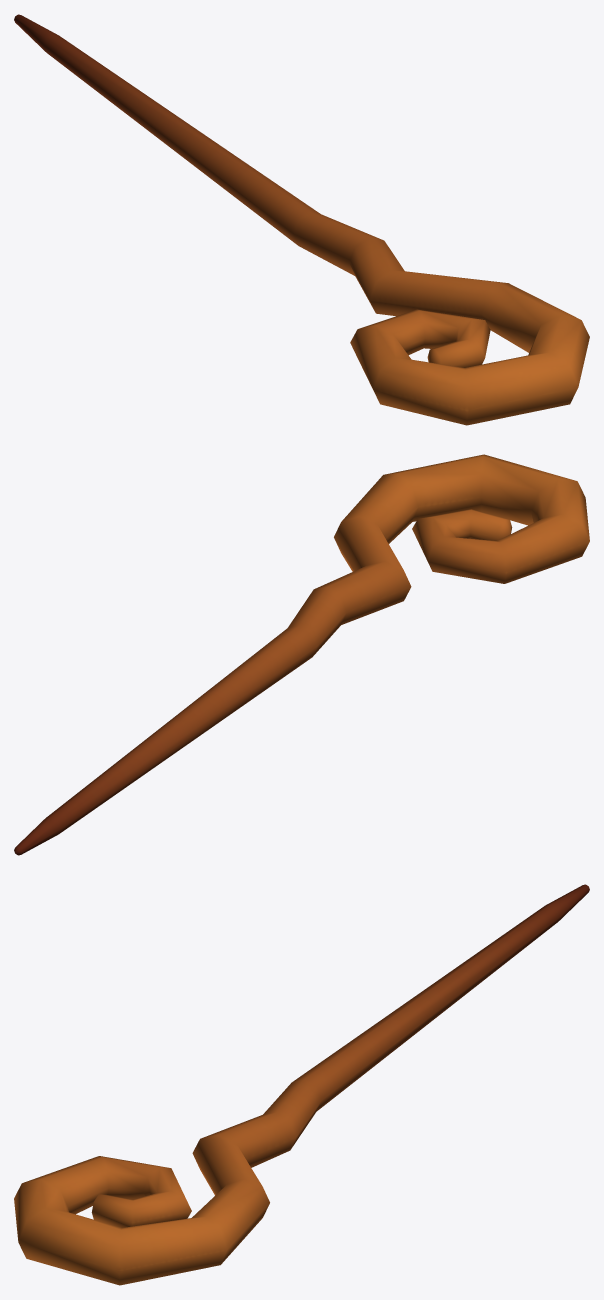
The model's file is wizard_wand.FBX.
3 views of the same model, one above another, from view 1: azimuth 30°, elevation 25°; view 2: azimuth 150°, elevation 25°; view 3: azimuth 330°, elevation 25° (orthographic).
Parts seen in each view (by area): view 1: wizard_wand; view 2: wizard_wand; view 3: wizard_wand.
Part boxes in pixels (left/top/right/bottom): wizard_wand: left=14, top=14, right=589, bottom=425; wizard_wand: left=14, top=454, right=589, bottom=855; wizard_wand: left=14, top=884, right=589, bottom=1285.
Bounding box in the file's own units: 24.94 × 5.96 × 104.
